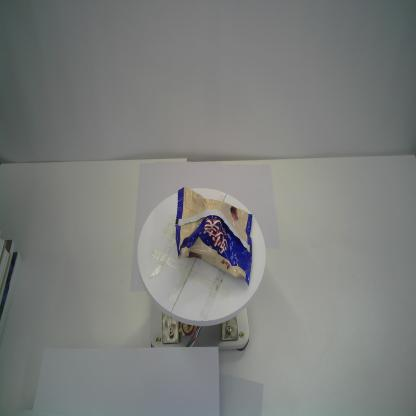Dessert: (176, 184, 256, 286)
